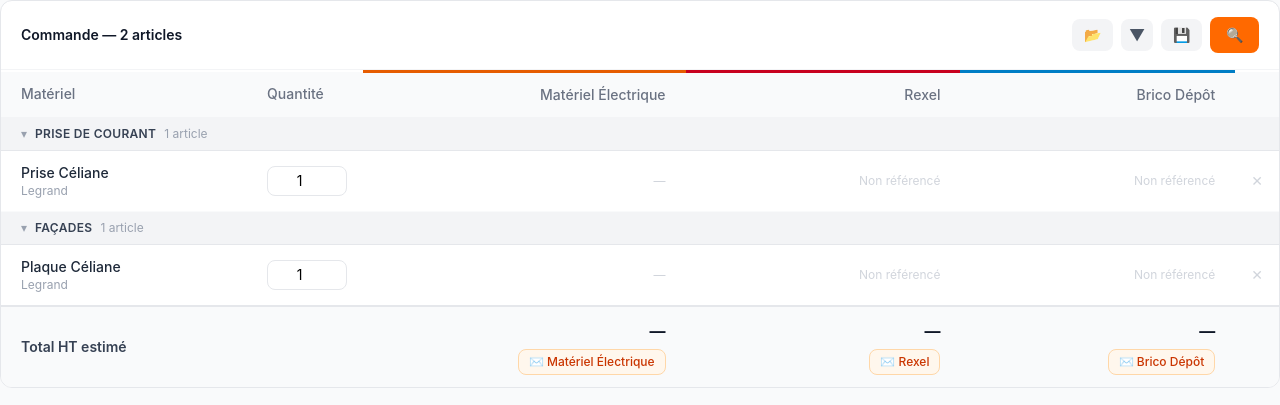
Test: CommandeTab › collapses a category row when header is clicked
Expected: the text "Prise Céliane" is shown, x1=21 y1=164 x2=109 y2=181
Click the cell named "Replier la catégorie Prise de courant".
click(96, 134)  # box x1=1 y1=118 x2=1279 y2=150
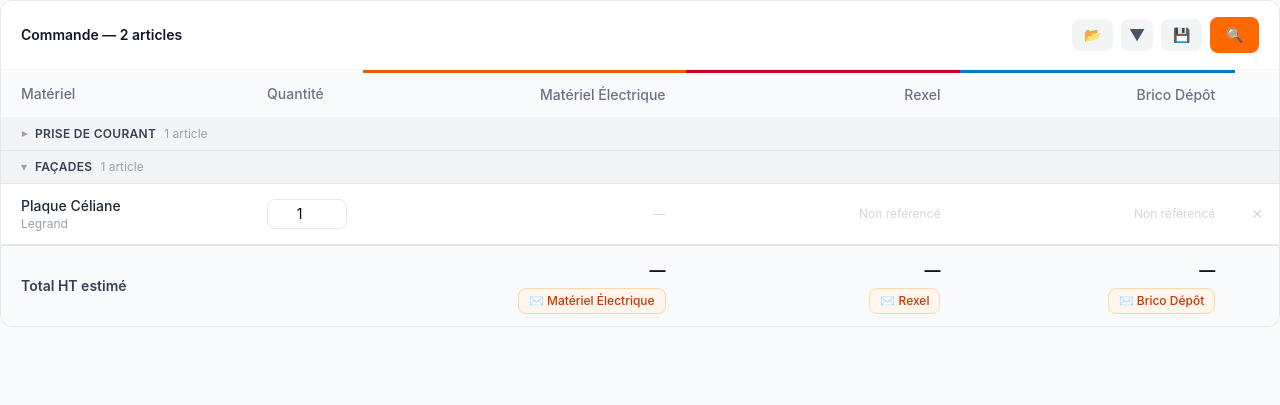
Expected: the text "Prise Céliane" is gone
